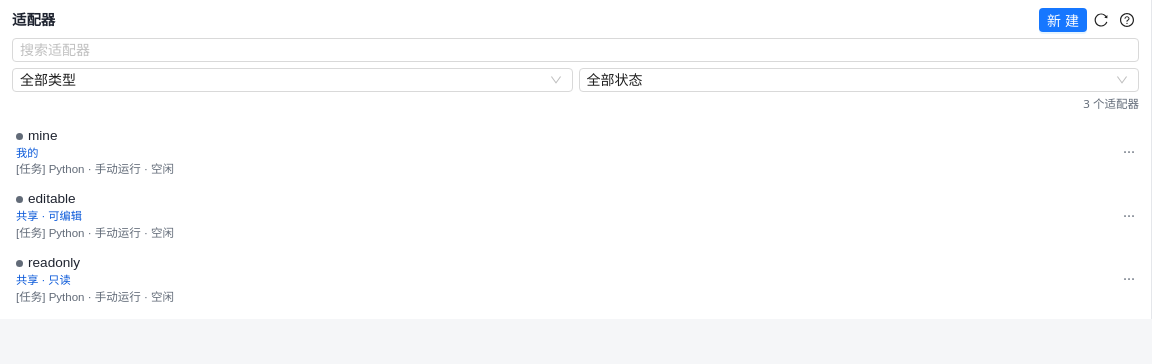
labels owned and shared relationships and hides cloning for read-only shares
This screenshot has width=1152, height=364.
expect the text "我的" is shown: met, box [16,147,38,159]
expect the text "共享 · 可编辑" is shown: met, box [16,210,82,222]
Click the 3rd button with test id "adapter-item-menu" at x=1129, y=279, box [1115,267,1143,291]
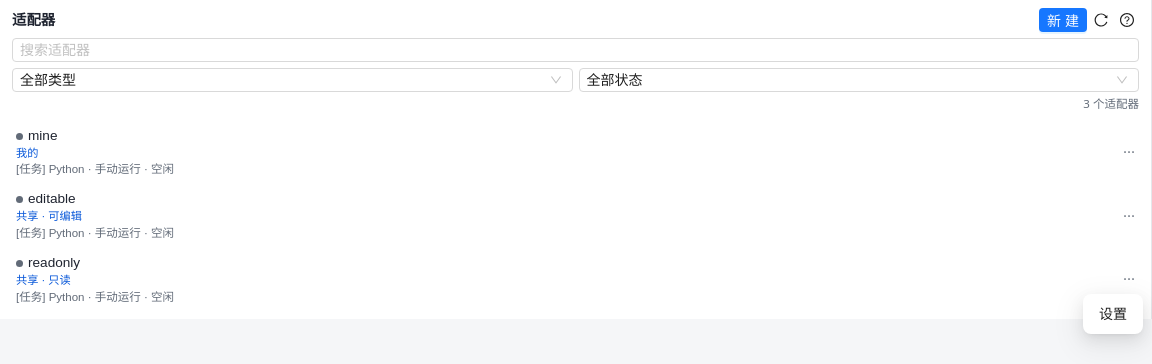
expect the menu item "设置" is shown: met, box [1099,305,1127,322]
